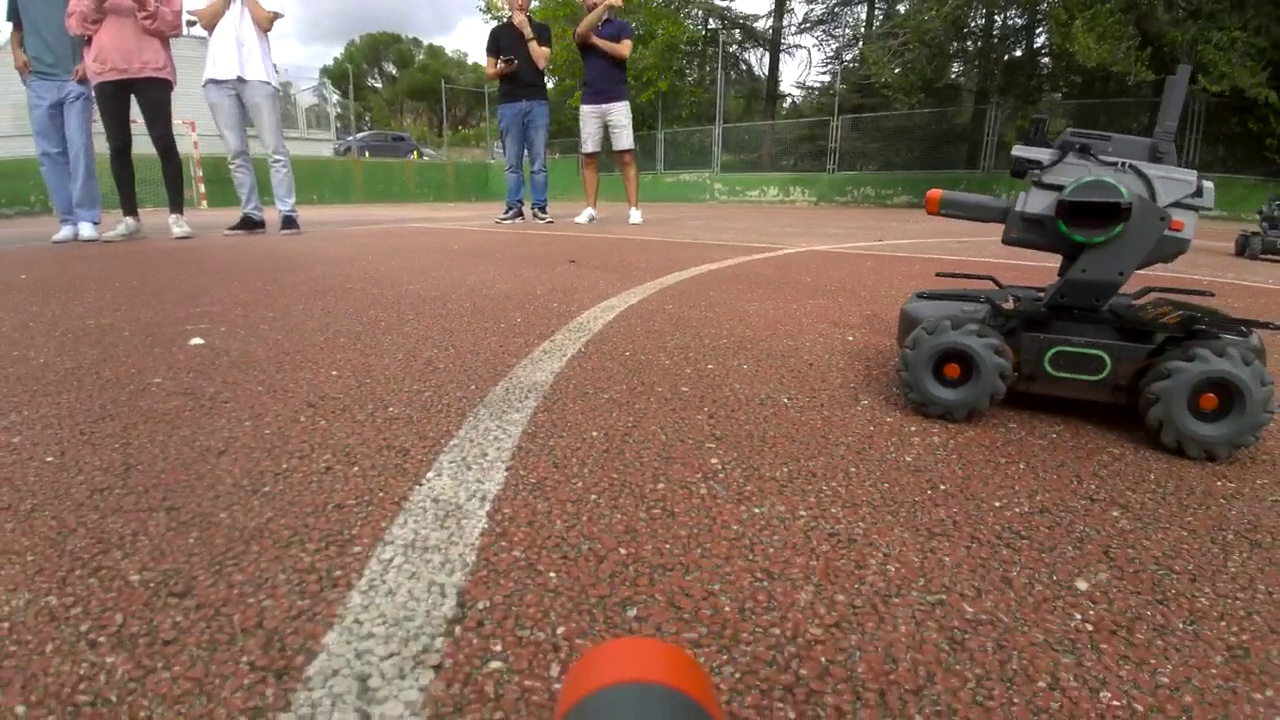robot: (903, 127, 1280, 457)
